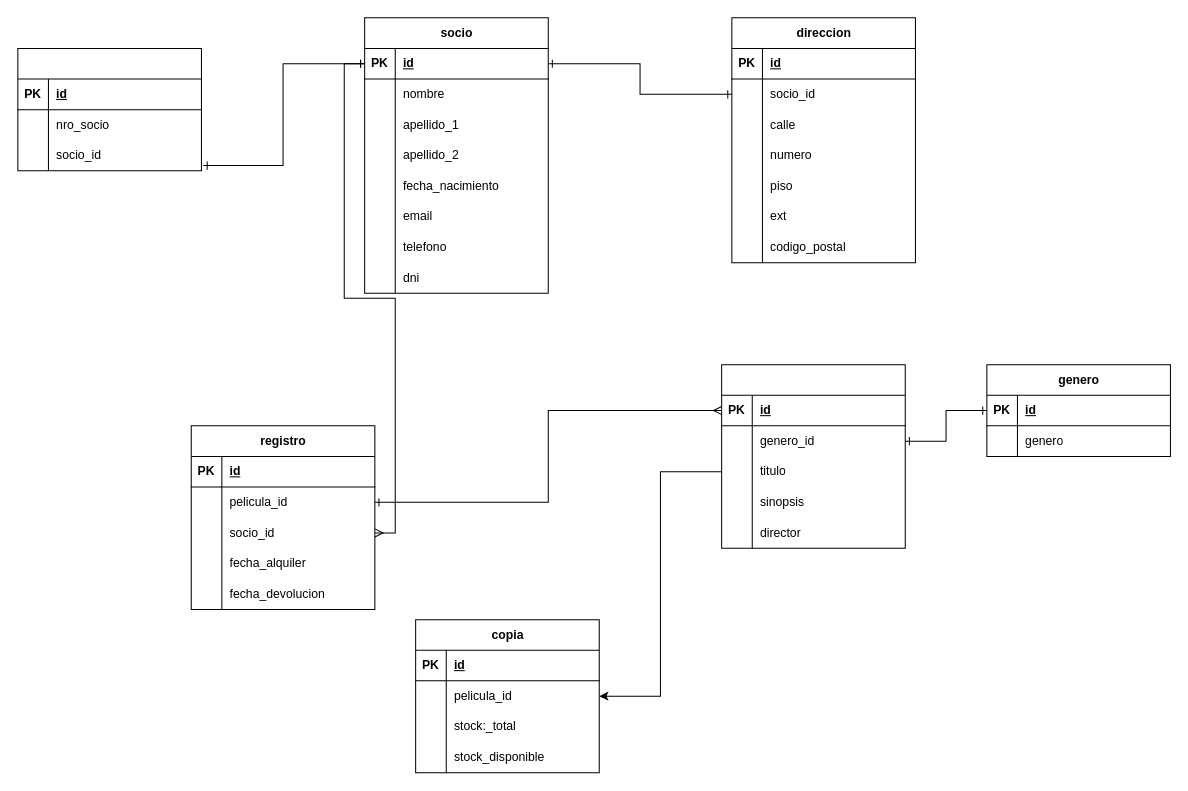
Image size: 1188x791. Some labels were removed from this diagram. The box of each missing label's shape, as (x1, y1, x2, y2) in pixels:
carnet: (17, 47, 201, 171)
pelicula: (721, 364, 905, 548)
